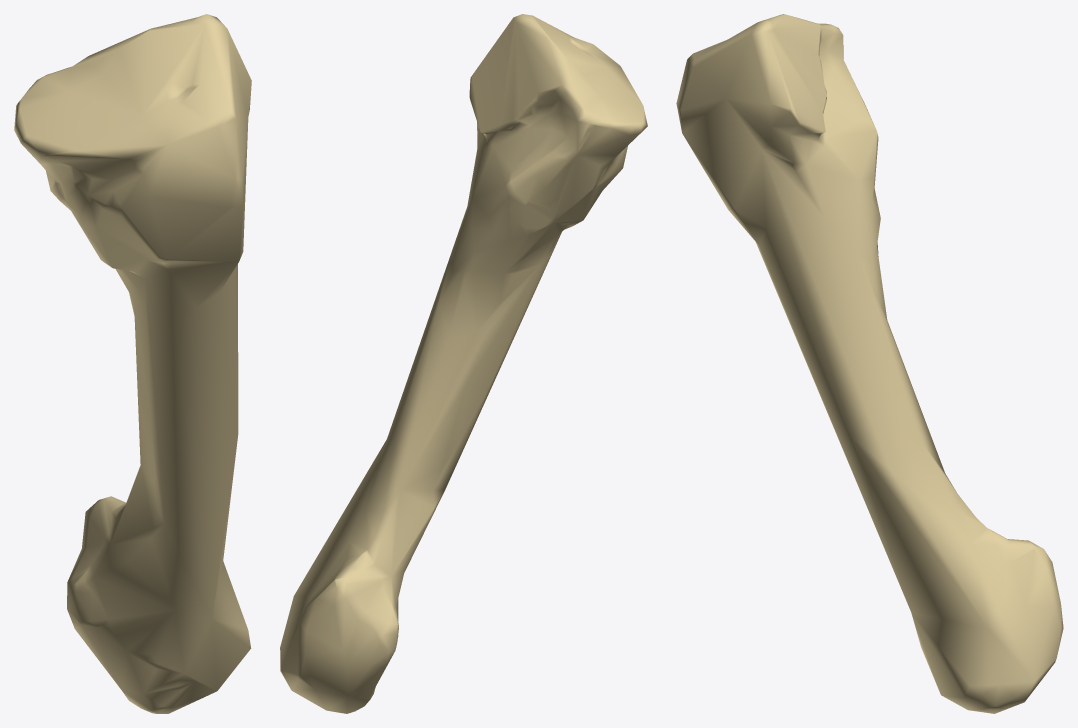
3 views of the same model, side by side, from view 1: azimuth 30°, elevation 25°; view 2: azimuth 150°, elevation 25°; view 3: azimuth 270°, elevation 25° (orthographic). The views are drawn at different scales.
Visible parts, largest first — view 1: 左侧第四跖骨; view 2: 左侧第四跖骨; view 3: 左侧第四跖骨.
Part boxes in pixels (x1,y1,x2,y2): 左侧第四跖骨: (14, 14, 251, 713); 左侧第四跖骨: (280, 14, 647, 713); 左侧第四跖骨: (676, 14, 1063, 713).
Bounding box in the file's own units: 0.044 × 0.101 × 0.0545.
